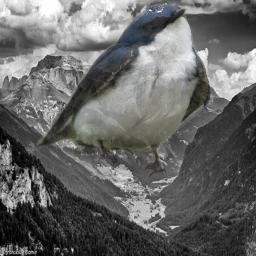Swallow: (36, 3, 212, 179)
